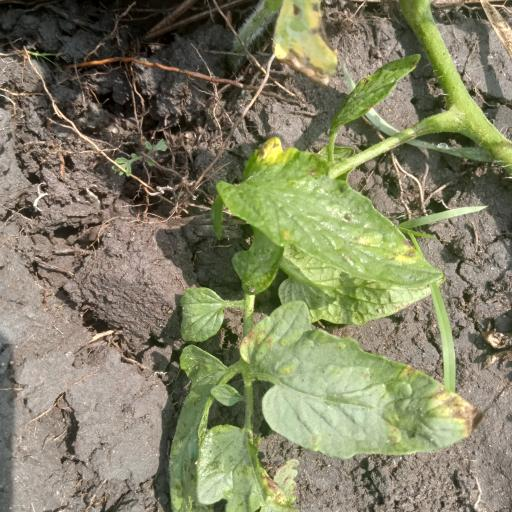Tomato_Brown_Spots: (224, 138, 444, 292), (260, 328, 481, 464)
